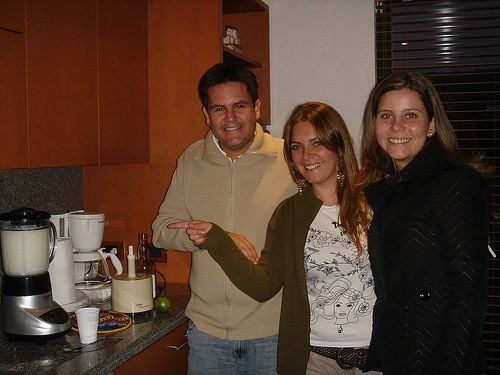head: (371, 72, 440, 167), (201, 61, 262, 161), (284, 101, 351, 187)
person: (165, 103, 372, 375), (155, 57, 291, 375), (355, 72, 493, 372)
